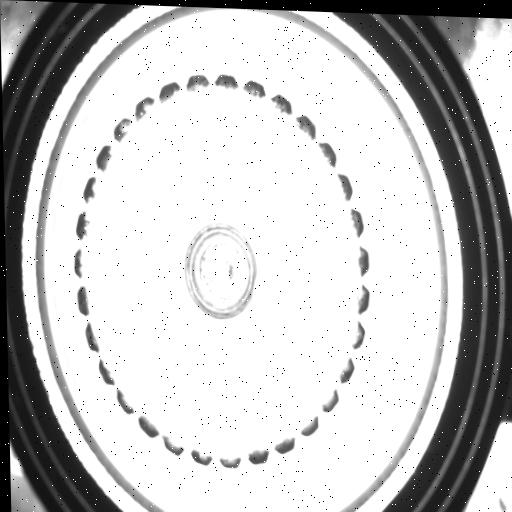gear: (69, 67, 374, 477)
